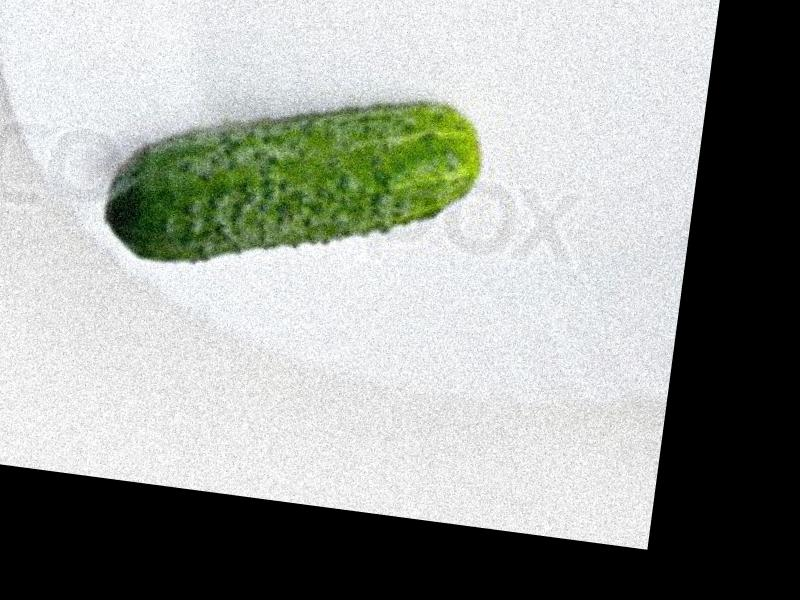Cucumber: (103, 62, 485, 300)
